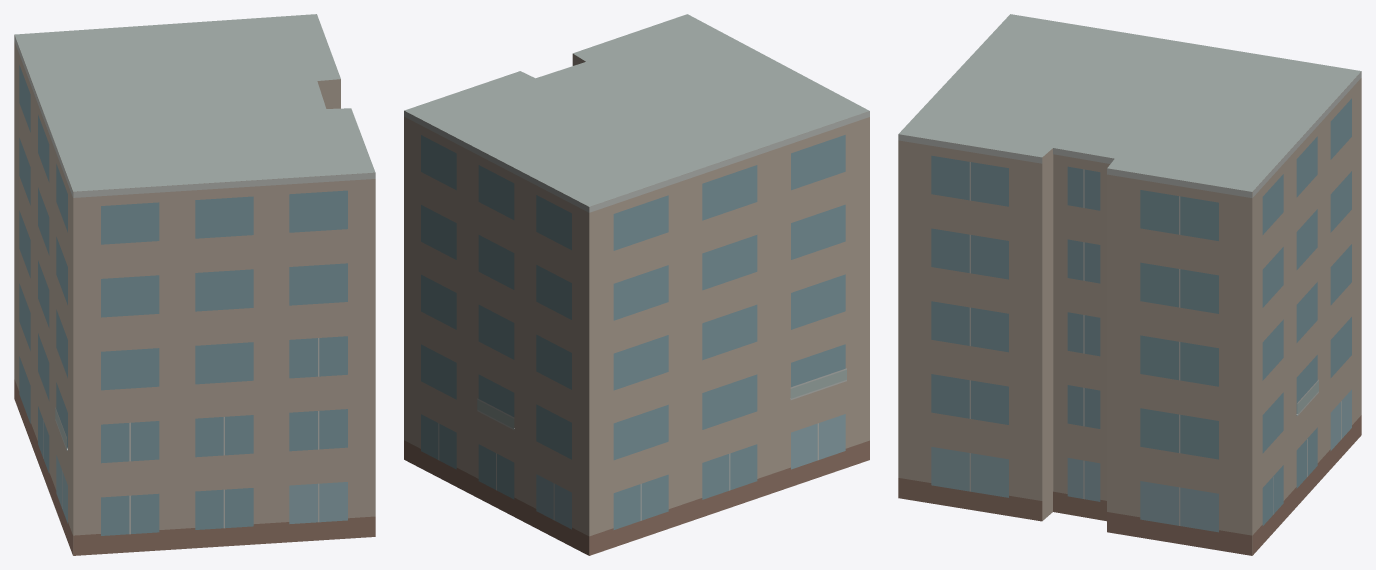
File: survey-upis-32869778.glb
The picture shows the model from 3 angles, left to right: view 1: azimuth 30°, elevation 25°; view 2: azimuth 150°, elevation 25°; view 3: azimuth 270°, elevation 25°; orthographic projection. The views are drawn at different scales.
Visible parts, largest first — view 1: survey-upis-32869778.tmp; view 2: survey-upis-32869778.tmp; view 3: survey-upis-32869778.tmp.
Boxes of the visible parts, <box> form: survey-upis-32869778.tmp: <box>14,14,375,555</box>; survey-upis-32869778.tmp: <box>404,14,869,555</box>; survey-upis-32869778.tmp: <box>898,14,1361,555</box>.
Bounding box in the file's own units: 14.9 × 14.2 × 16.4.
